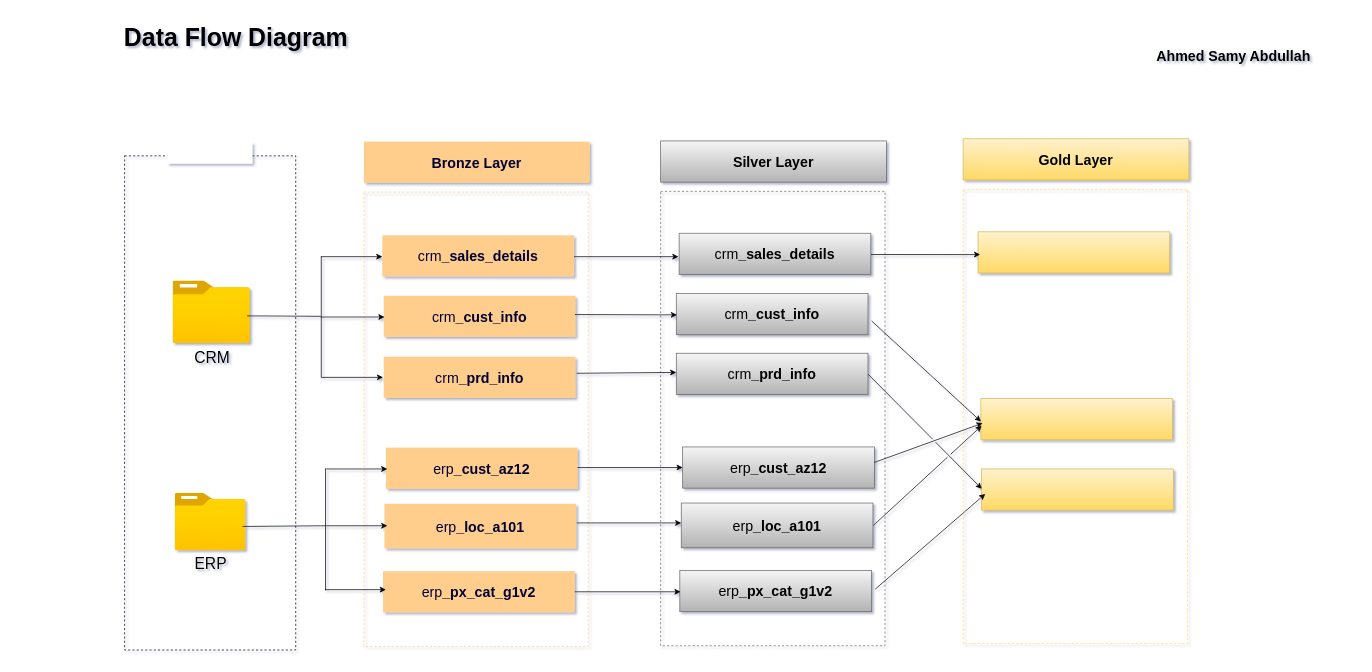
Image size: 1372x672. Some labels were removed from this diagram. The centre of each missing label's shape, as x and y in pixels:
"dim_customers" belongs at pixel 1076 419.
"dim_products" belongs at pixel 1077 489.
"fact_sales" belongs at pixel 1073 252.
"Sources" belongs at pixel 209 152.
